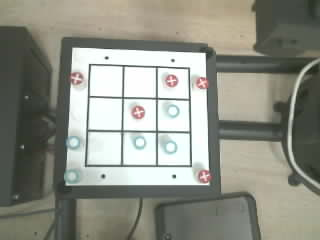blue circle: (64, 169, 80, 183), (66, 136, 81, 150), (164, 141, 178, 154), (167, 104, 179, 117), (134, 136, 145, 149)
board: (64, 48, 211, 185)
cells: (87, 132, 121, 164), (158, 133, 190, 165), (88, 98, 121, 129), (90, 66, 123, 97), (123, 133, 155, 164), (123, 99, 155, 130), (158, 68, 189, 98), (158, 100, 189, 130), (124, 67, 155, 97)
grid: (85, 64, 191, 166)
red cross: (132, 105, 145, 119), (165, 74, 178, 87), (70, 72, 83, 85), (198, 170, 211, 183), (196, 77, 208, 88)
